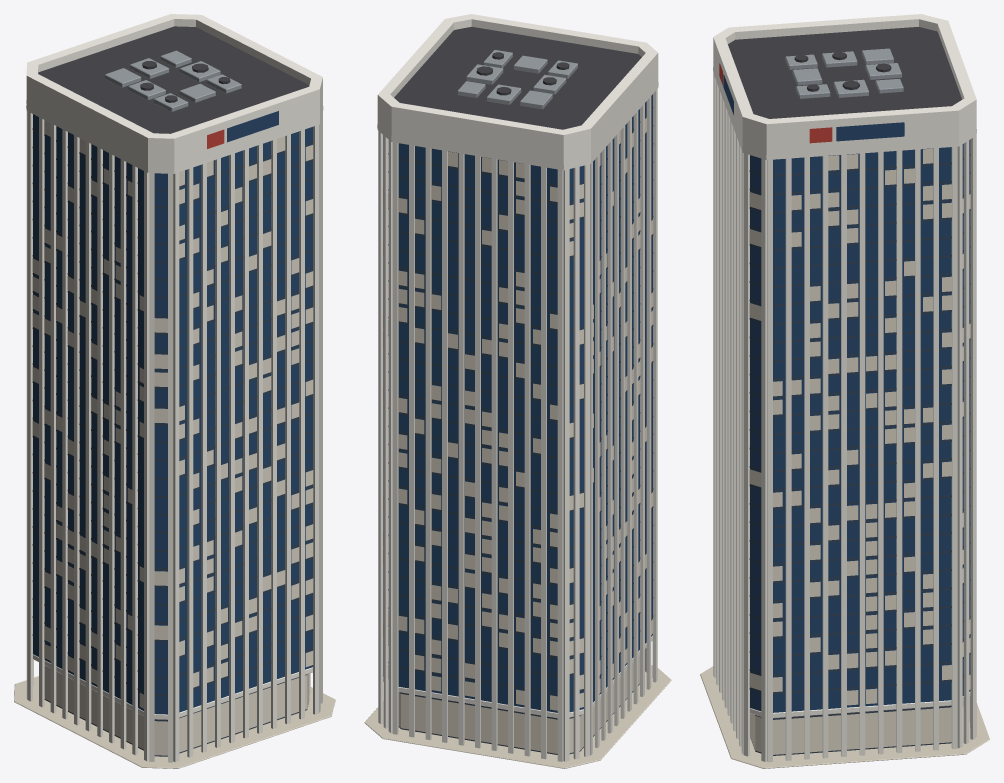
File: 1-california-street.glb
The picture shows the model from 3 angles, left to right: view 1: azimuth 30°, elevation 25°; view 2: azimuth 150°, elevation 25°; view 3: azimuth 270°, elevation 25°; orthographic projection. The views are drawn at different scales.
Parts seen in each view (by area): view 1: 1-california-street_body, 1-california-street_night_glow; view 2: 1-california-street_body, 1-california-street_night_glow; view 3: 1-california-street_body, 1-california-street_night_glow.
Boxes of the visible parts, x1,y1,x2,y2 form: 1-california-street_body: [14, 14, 335, 768]; 1-california-street_night_glow: [26, 100, 323, 755]; 1-california-street_body: [364, 14, 671, 768]; 1-california-street_night_glow: [377, 82, 658, 753]; 1-california-street_body: [700, 14, 989, 768]; 1-california-street_night_glow: [713, 64, 976, 754].
Bounding box in the file's own units: 54.37 × 134 × 54.86.
